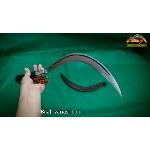Celurit: (10, 50, 126, 99)
